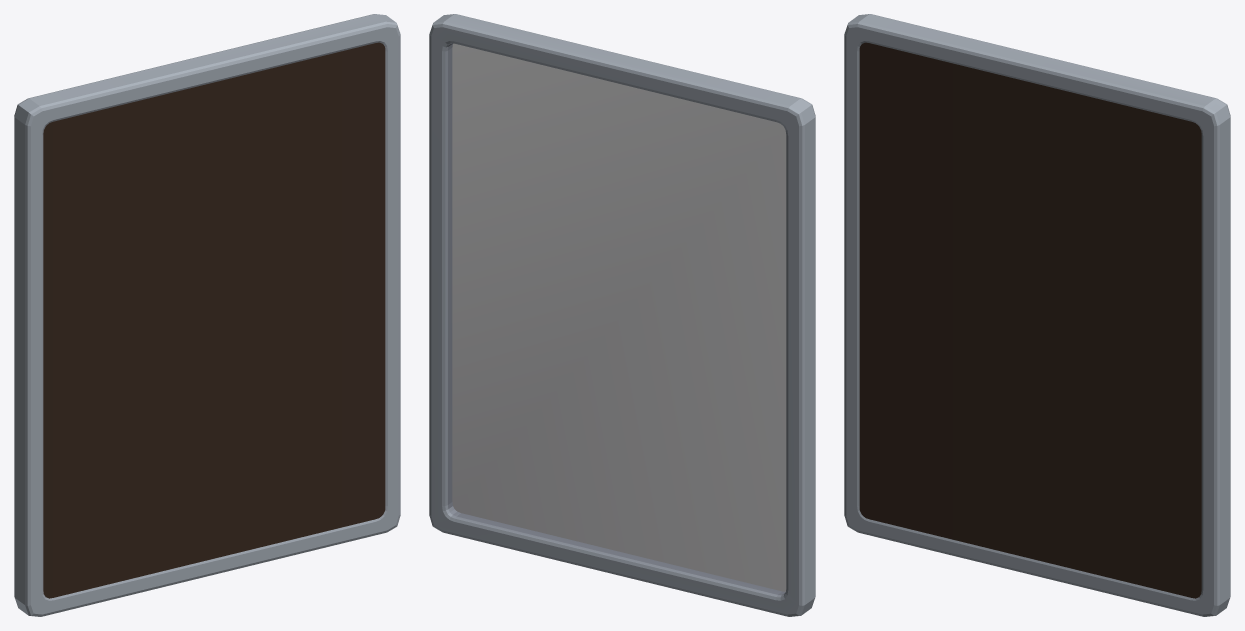
File: frame_picture__087.glb
The picture shows the model from 3 angles, left to right: view 1: azimuth 30°, elevation 25°; view 2: azimuth 150°, elevation 25°; view 3: azimuth 330°, elevation 25°; orthographic projection.
Parts seen in each view (by area): view 1: prop_frame_picture; view 2: prop_frame_picture; view 3: prop_frame_picture.
Part boxes in pixels (x1,y1,x2,y2): prop_frame_picture: [14, 14, 400, 616]; prop_frame_picture: [429, 14, 815, 616]; prop_frame_picture: [844, 14, 1230, 616].
Size of the model in its own units: 0.515 by 0.67 by 0.035.
